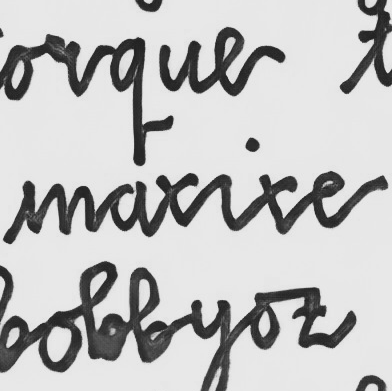a: (107, 178, 149, 235)
e: (308, 170, 359, 230)
i: (209, 169, 242, 232)
m: (22, 178, 98, 237)
x: (248, 172, 301, 236), (151, 172, 201, 231)
